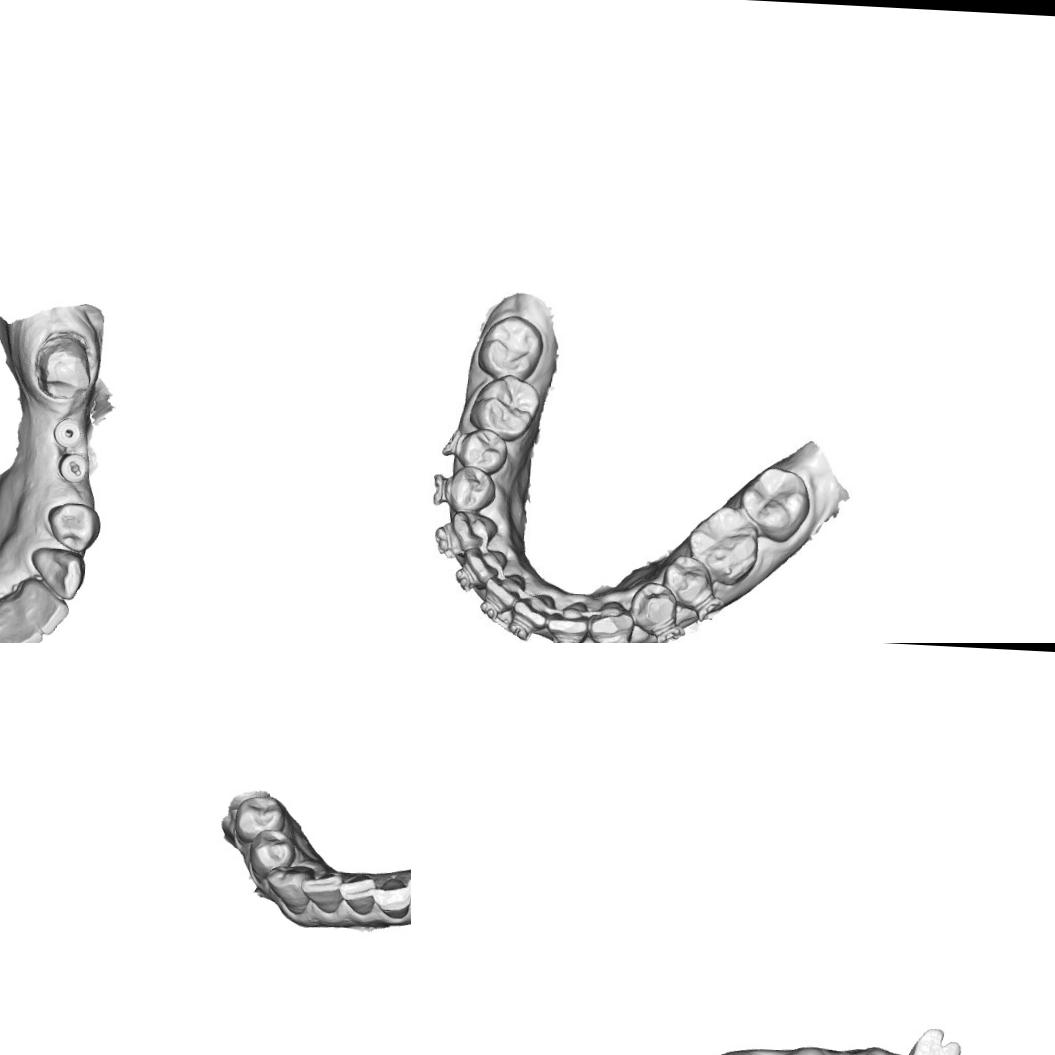canine: (28, 545, 87, 601), (262, 863, 316, 916), (453, 510, 497, 552), (589, 599, 629, 643)
crown: (30, 328, 95, 402), (893, 1018, 968, 1055)
implant: (51, 416, 84, 450)
implant_minus: (54, 452, 88, 484)
incisor: (298, 868, 344, 914), (26, 591, 70, 637), (369, 875, 411, 919), (336, 871, 376, 916), (464, 545, 506, 584), (550, 600, 585, 640), (515, 593, 553, 628), (486, 578, 526, 606), (4, 619, 44, 643)
molar: (688, 507, 756, 577), (744, 466, 808, 534), (482, 316, 542, 381), (475, 371, 538, 430)
premolar: (45, 500, 101, 554), (232, 793, 287, 847), (246, 826, 297, 882), (665, 556, 710, 602), (634, 584, 682, 626), (452, 469, 500, 510), (460, 433, 506, 469)
